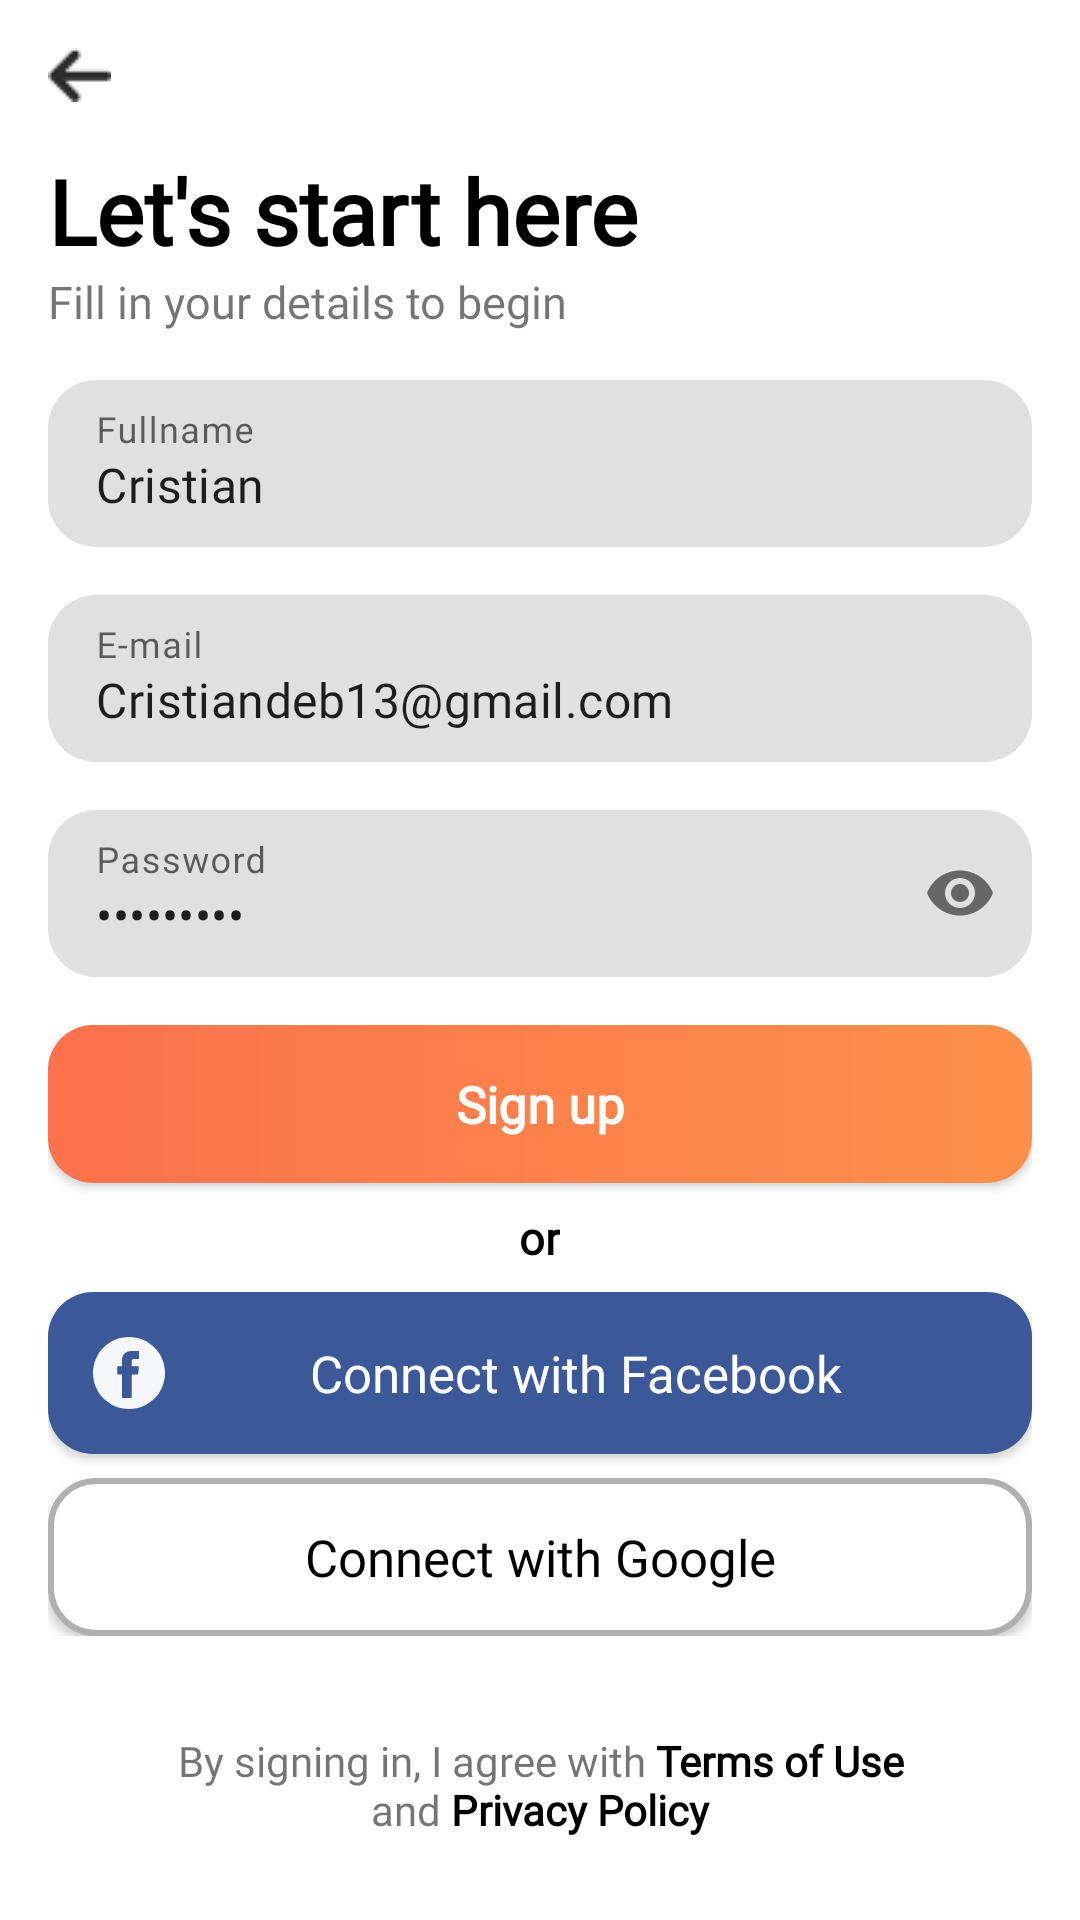

Locate icon controls on the screen. Image size 1080x1920, boxes as bbox=[x1, y1, x2, y2].
arrow left: bbox=[48, 48, 111, 102]
